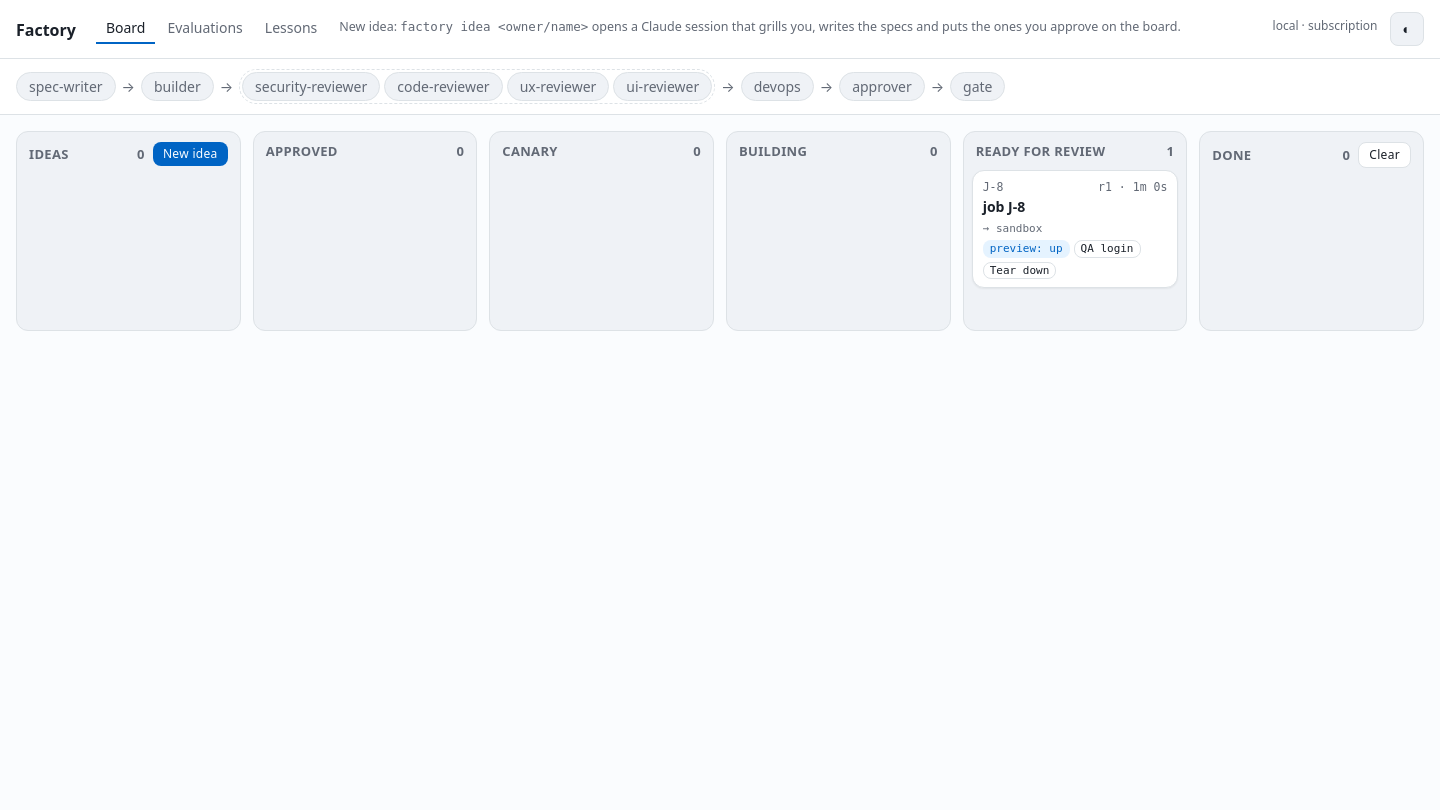
Test: card actions › a refused QA login says why
Click the button "QA login" at (1107,249), box [1074,240,1140,258]
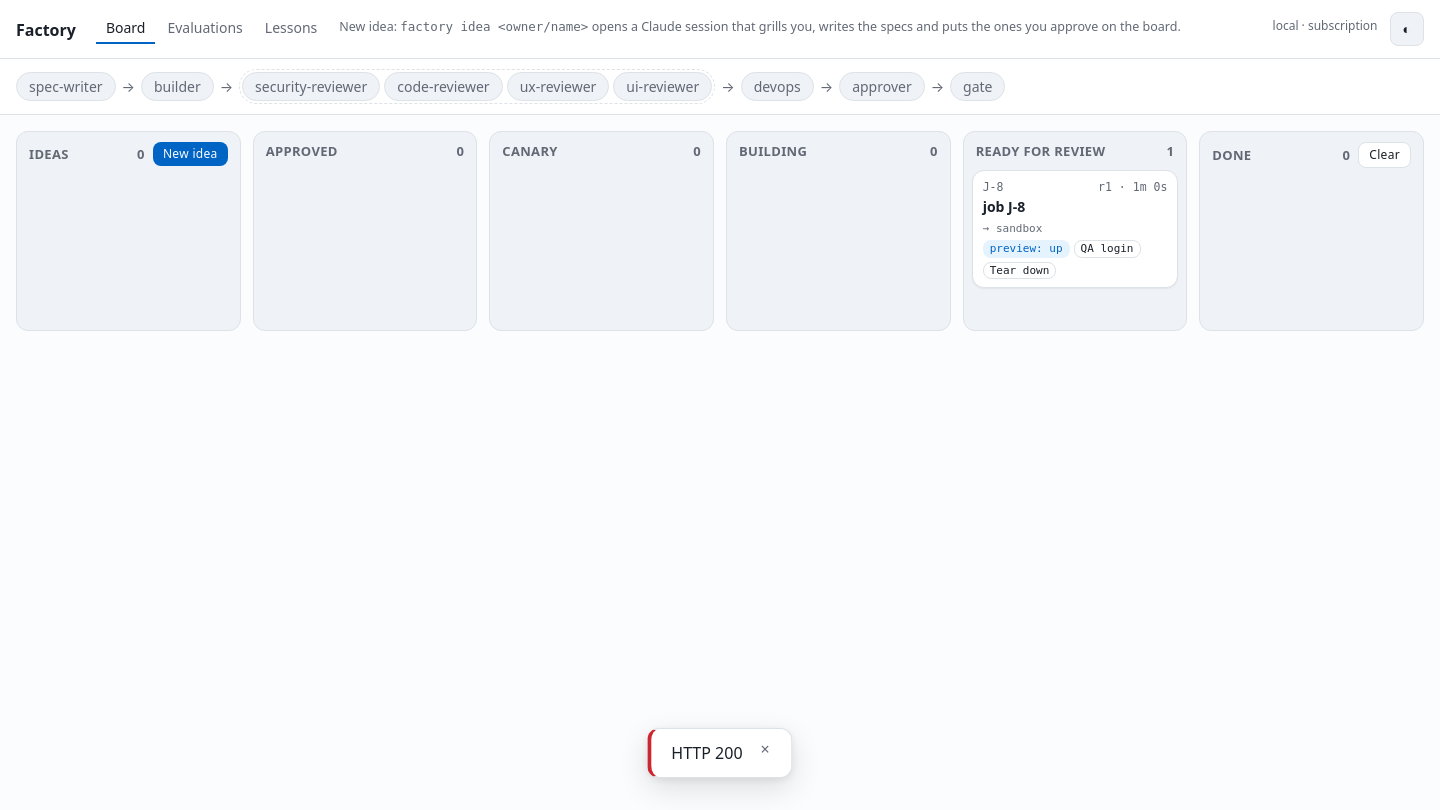
Expected: the message with id "toast" shows "HTTP 200", [671,742,743,764]
